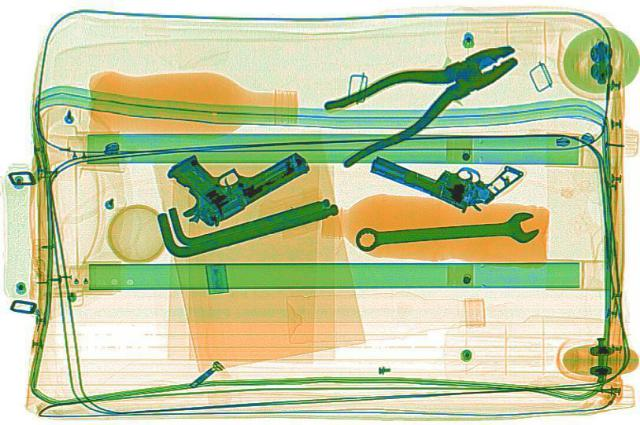Gun: (134, 119, 320, 230), (354, 122, 528, 217)
Pliers: (286, 26, 548, 168)
Wrench: (348, 210, 542, 253)
